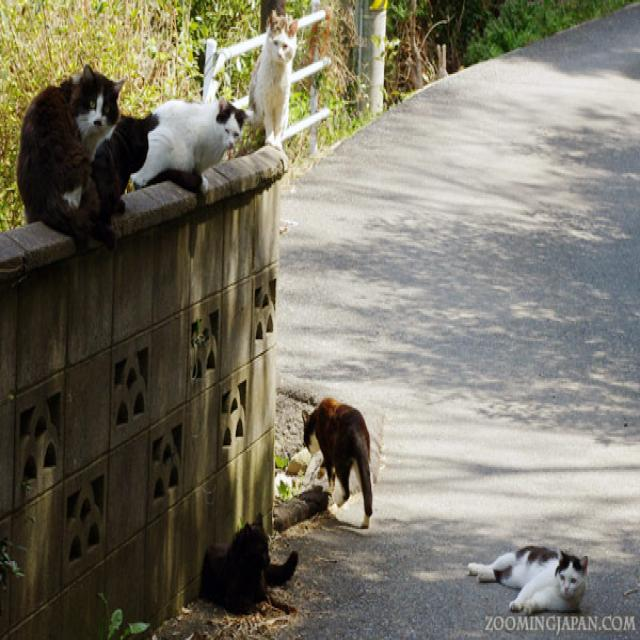cat: (18, 65, 124, 244), (132, 98, 248, 192), (201, 514, 299, 612), (303, 398, 372, 527), (469, 545, 588, 613), (91, 114, 159, 223), (249, 12, 298, 149)
